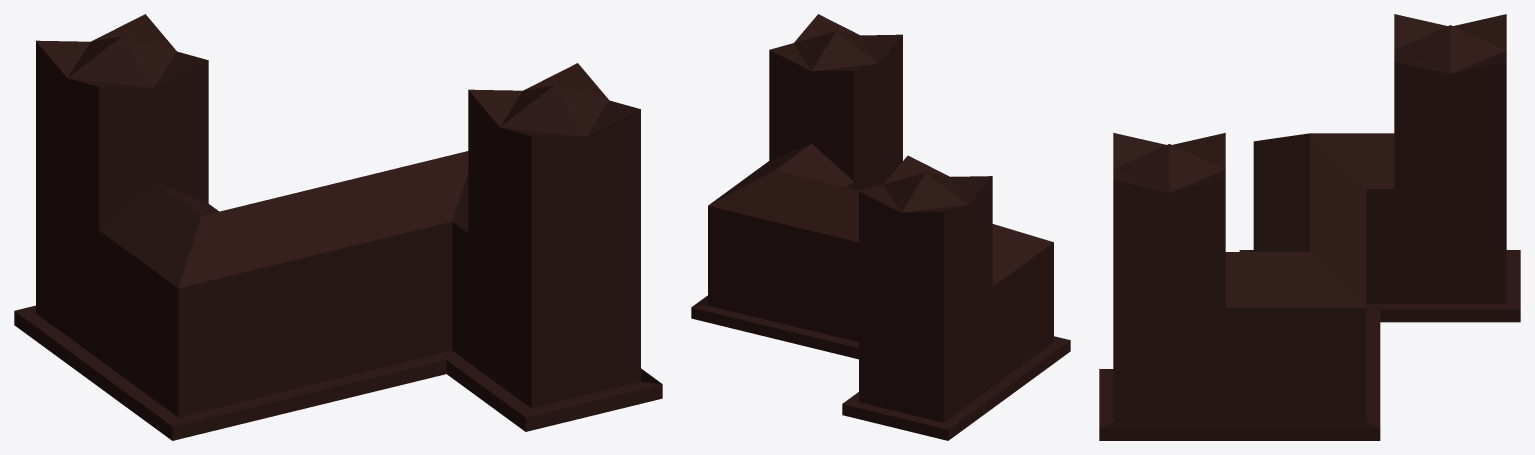
File: Abbey.glb
The picture shows the model from 3 angles, left to right: view 1: azimuth 30°, elevation 25°; view 2: azimuth 150°, elevation 25°; view 3: azimuth 270°, elevation 25°; orthographic projection. The views are drawn at different scales.
Parts seen in each view (by area): view 1: 5Abbey; view 2: 5Abbey; view 3: 5Abbey.
Part boxes in pixels (<box>): 5Abbey: <box>14,14,662,440</box>; 5Abbey: <box>691,14,1070,440</box>; 5Abbey: <box>1099,14,1520,440</box>.
Size of the model in its own units: 3 by 2.1 by 3.
